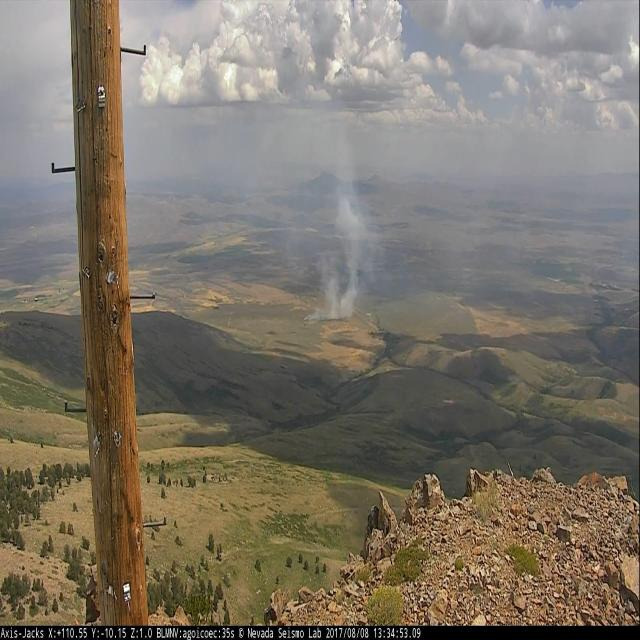smoke: (302, 190, 362, 322)
